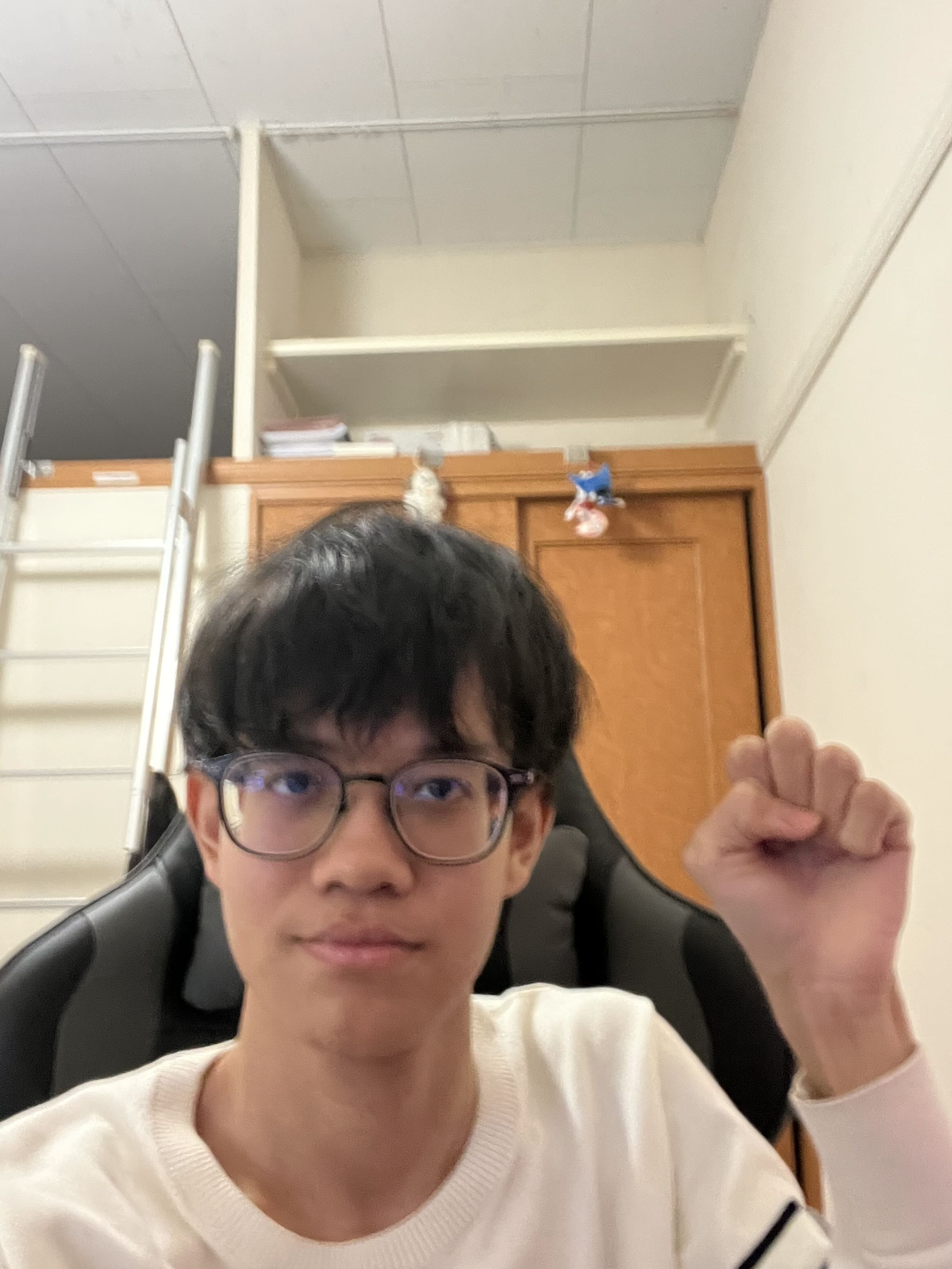right_closed_palm: (711, 735, 887, 971)
